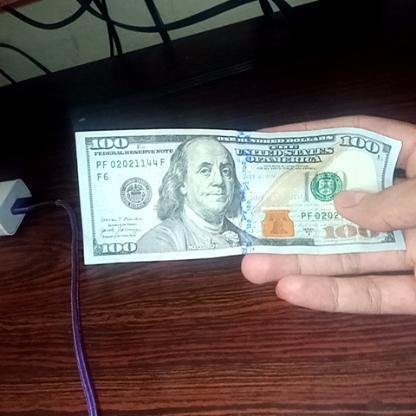dollar_front: (72, 122, 405, 266)
